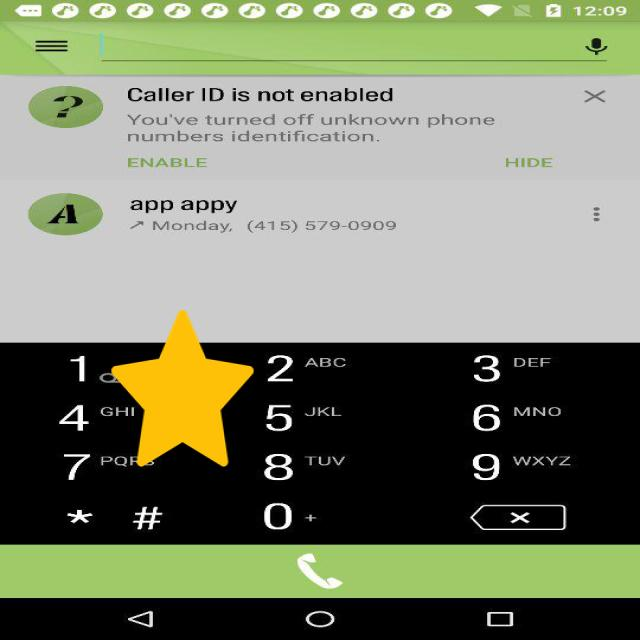forced continuity: (112, 310, 254, 467)
